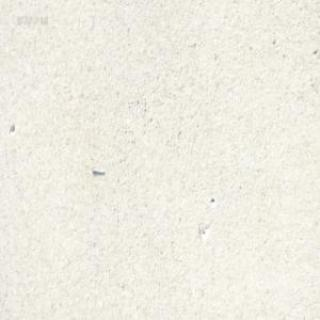Nailtrack_idkeyframe: (90, 164, 104, 173)
